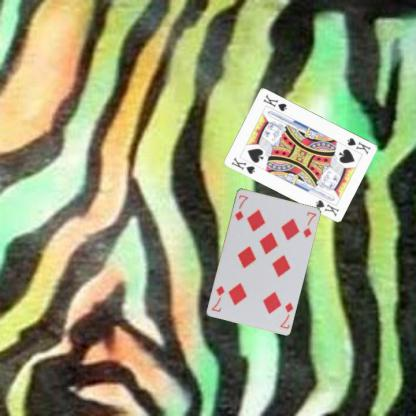7d: (277, 299, 295, 330), (232, 192, 249, 222)
Ks: (345, 135, 372, 156), (230, 155, 257, 175)
